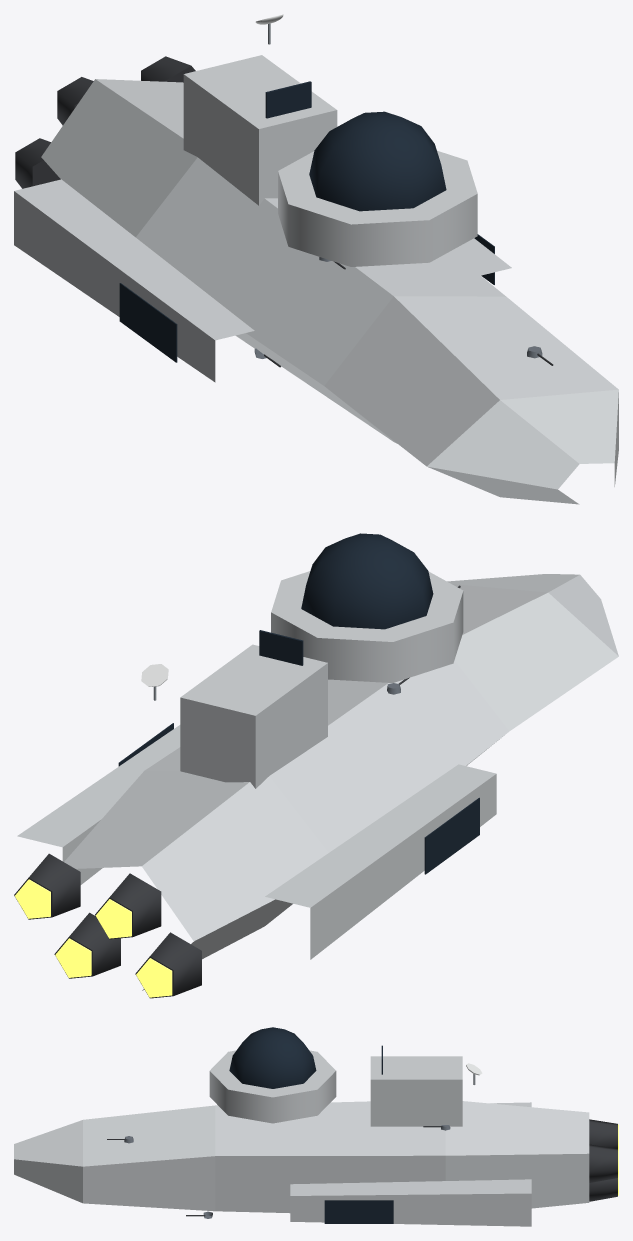
Rendered from space_ship_command_ship_mk1_lod1.glb.
The picture shows the model from 3 angles, top to bottom: view 1: azimuth 30°, elevation 25°; view 2: azimuth 150°, elevation 25°; view 3: azimuth 270°, elevation 25°; orthographic projection. The views are drawn at different scales.
Parts seen in each view (by area): view 1: body, hangar_r, engine_0, engine_3, engine_1; view 2: body, engine_1, engine_3, engine_0, engine_2, hangar_r; view 3: body, hangar_l, engine_3, engine_1, engine_2.
Part boxes in pixels (x1,y1,x2,y2): body: (14,55,618,504); hangar_r: (119,283,177,362); engine_0: (15,138,60,188); engine_3: (141,56,195,82); engine_1: (57,77,93,125); body: (17,533,618,990); engine_1: (95,873,161,939); engine_3: (14,853,80,919); engine_0: (135,932,201,998); engine_2: (54,912,120,978); hangar_r: (424,797,479,874); body: (14,1027,589,1226); hangar_l: (324,1200,393,1223); engine_3: (589,1144,618,1182); engine_1: (589,1119,618,1149); engine_2: (589,1177,618,1201).
Bounding box in the file's own units: 31.34 × 27.26 × 84.12.
